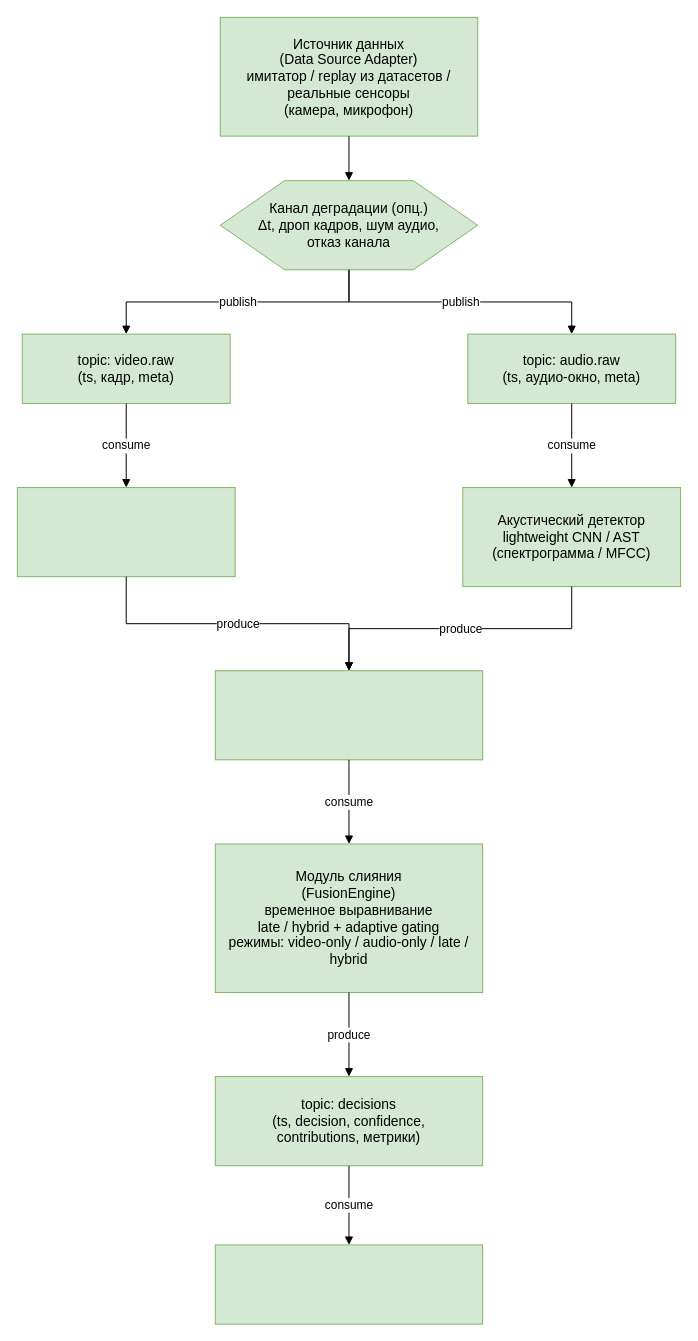
The diagram is 698 pixels wide and 1341 high, and some of its shapes have lost their labels. The shapes that lost their labels are listed below. From the top down, each one's box as (x1, y1, x2, y2) in pixels, then its label:
(16, 487, 235, 577): Визуальный детектор YOLOv8 + ByteTrack
(214, 670, 483, 760): topic: inference (ts, modality, label, confidence, bbox?, track_id?, latency)
(214, 1244, 483, 1324): Sink / Dashboard лог, авто-сбор метрик, визуализация
